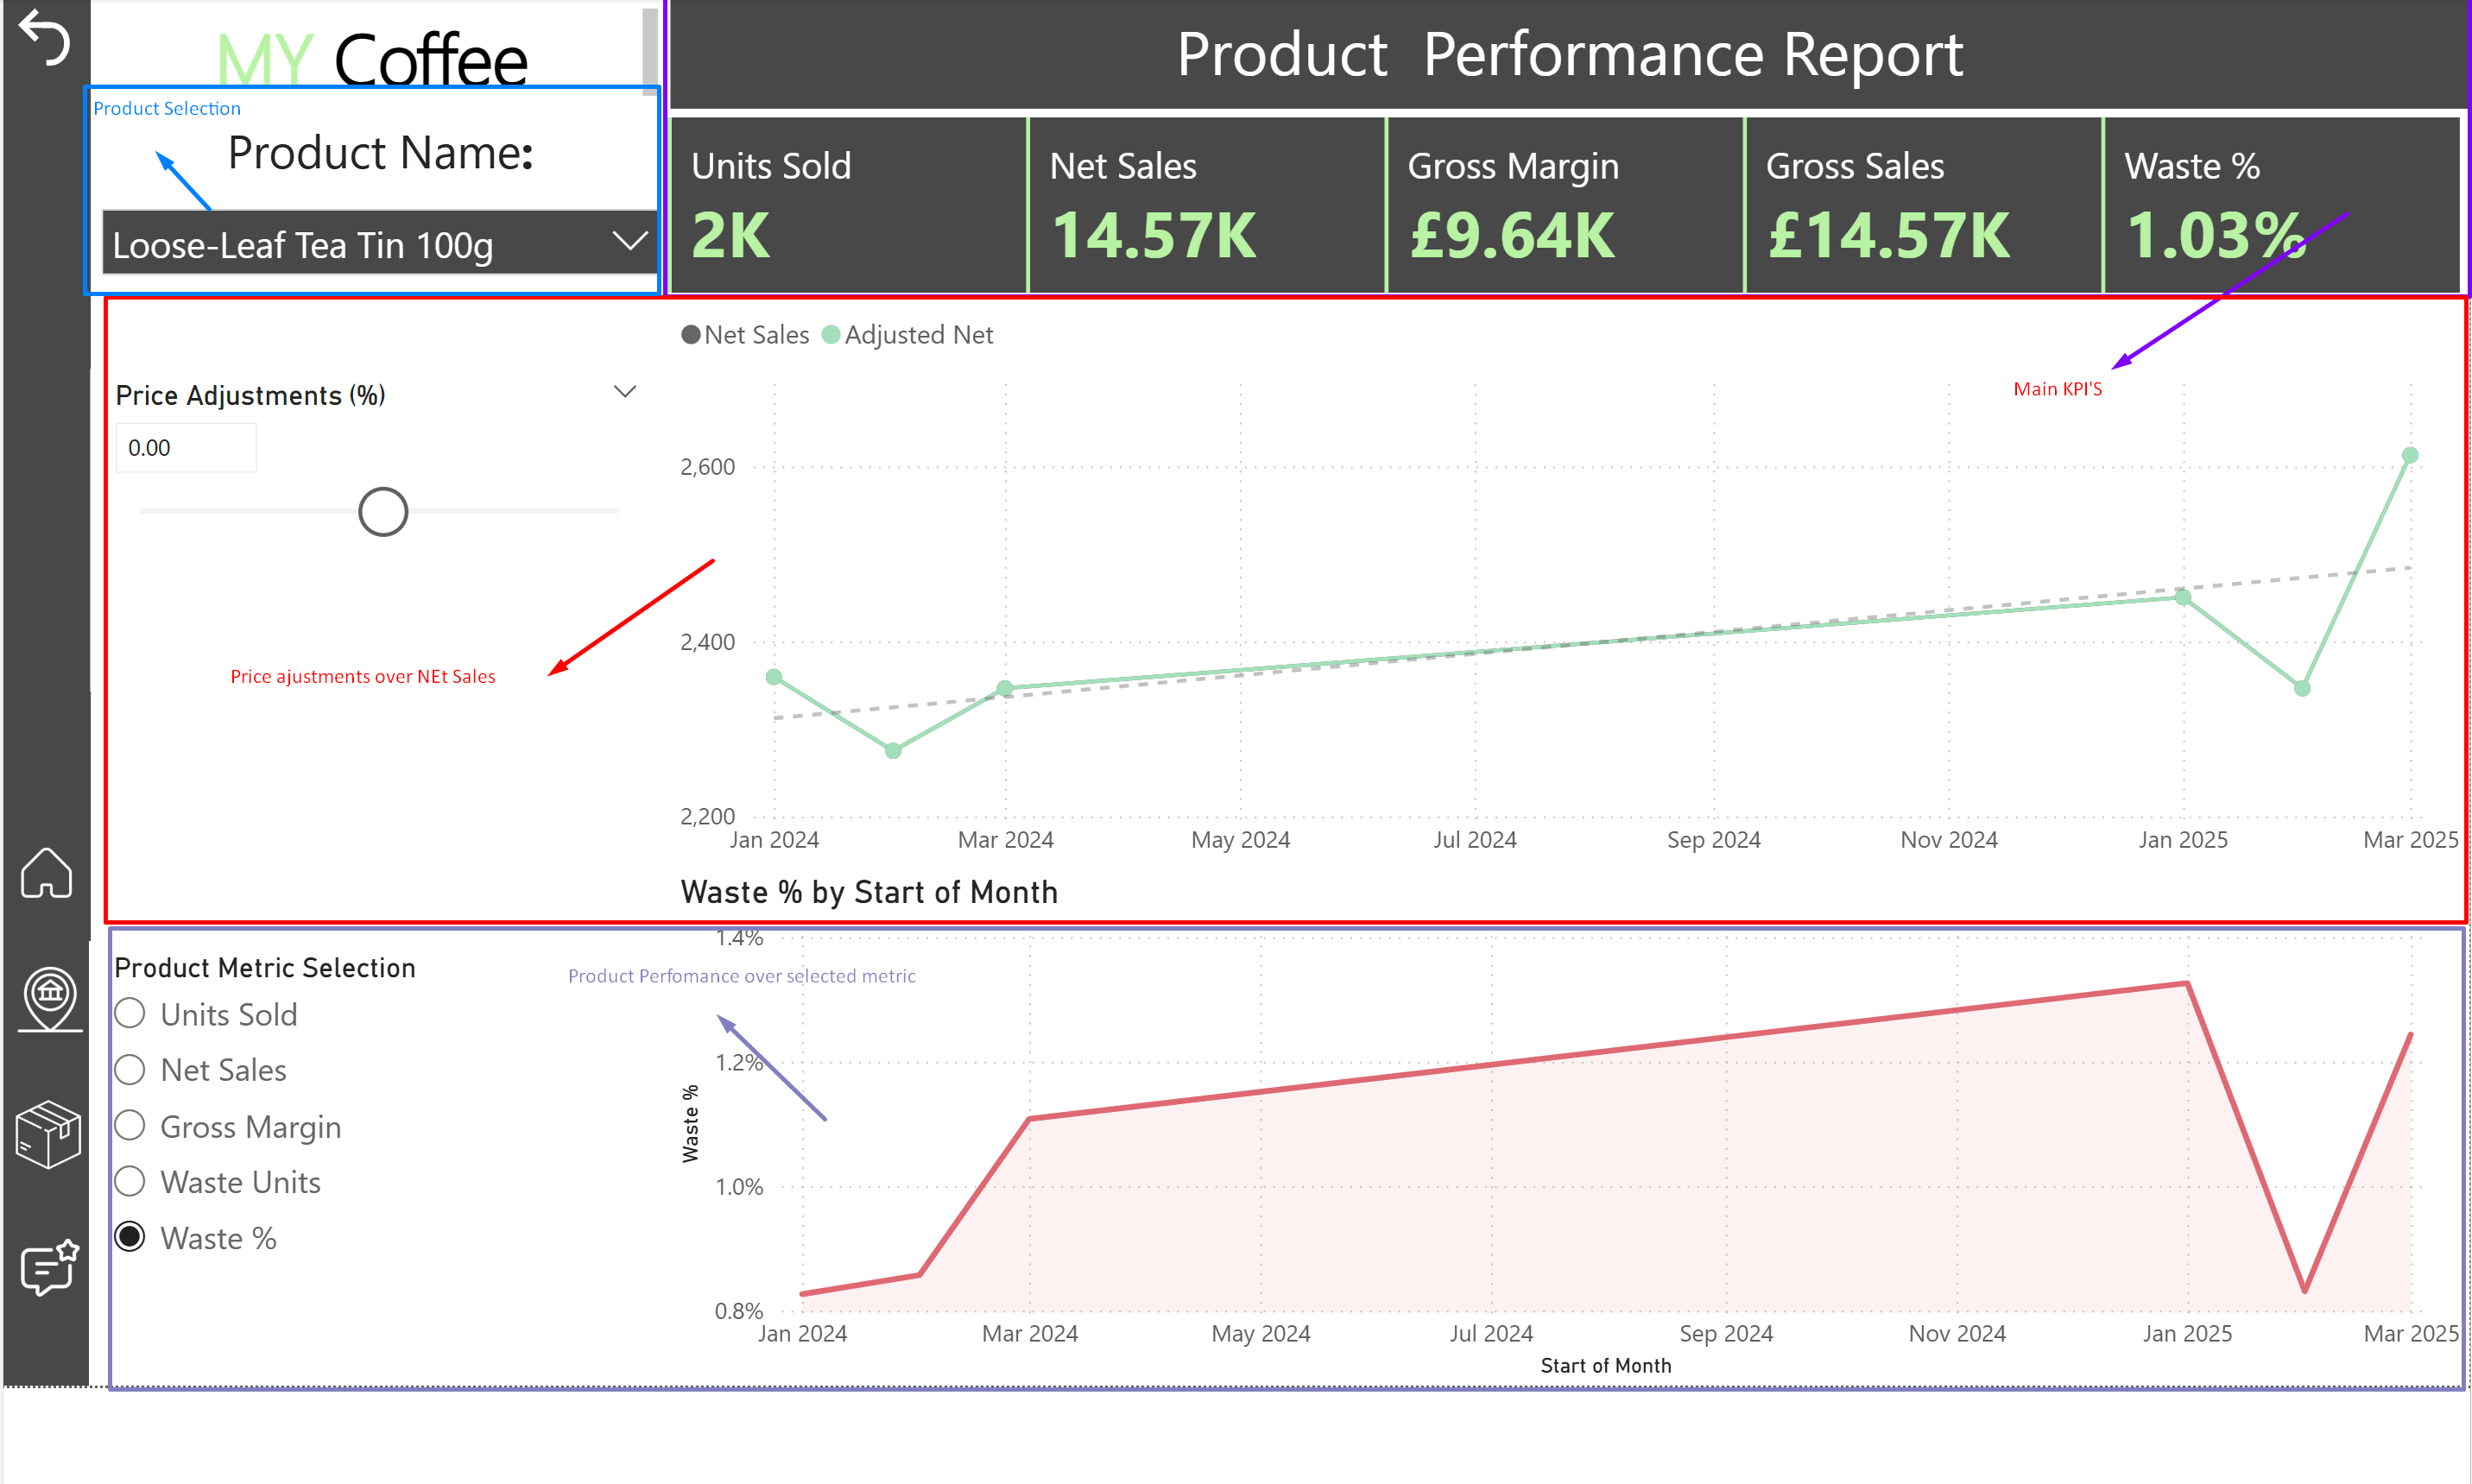

The dashboard page shown, as its layout file describes it:
{"tool":"powerbi","page":{"name":"Product Perfomance","canvas":[1280,720],"ordinal":2},"visuals":[{"type":"shape","box":[0,0,45.6,720.6],"z":0},{"type":"textbox","box":[346.3,0,933.7,57.3],"z":1000},{"type":"textbox","box":[45.8,0,299.2,57.5],"z":2000},{"type":"textbox","box":[45.4,57.3,299.7,41.8],"z":3000},{"type":"slicer","fields":{"Values":["Product_Lookup_Table.PLU Name"]},"box":[45.4,103.9,299.7,50.1],"z":4000},{"type":"cardVisual","fields":{"Data":["Measure Table.Units Sold","Measure Table.Net Sales","Measure Table.Gross Margin","Measure Table.Gross Sales","Measure Table.Waste %"]},"box":[345.1,62.1,934.9,91.9],"z":5000},{"type":"lineChart","fields":{"Y":["Measure Table.Waste %"],"Category":["Calendar_Lookup_table.Start of Month"]},"box":[346.2,453.8,933.8,266.2],"z":6000},{"type":"slicer","fields":{"Values":["Parameter.Parameter"]},"box":[44.6,489.2,298.5,230.8],"z":7000},{"type":"image","box":[2.1,497.4,44.2,44.2],"z":8000},{"type":"image","box":[2.1,637.3,44.2,43.1],"z":9000},{"type":"image","box":[0,432.2,44.2,43.1],"z":10000},{"type":"image","box":[0,563.7,46.3,51.5],"z":11000},{"type":"slicer","fields":{"Values":["Price Adjustments (%).Price Adjustments (%)"]},"box":[44.8,192.4,296.5,167.4],"z":12000},{"type":"lineChart","fields":{"Category":["Calendar_Lookup_table.Start of Month"],"Y":["Measure Table.Net Sales","Measure Table.Adjusted Net Sales"]},"box":[345.3,154.2,934.3,300.5],"z":13000},{"type":"actionButton","box":[1.1,0,45.2,40],"z":14000}]}

Visuals, with their boxes on the page's 1280x720 design canvas (x1, y1, x2, y2). These are canvas units, not pixel positions in the 2472x1484 screenshot, which may show the page scaled, cropped or inside an application window:
shape: [left=0, top=0, right=46, bottom=721]
textbox: [left=346, top=0, right=1280, bottom=57]
textbox: [left=46, top=0, right=345, bottom=58]
textbox: [left=45, top=57, right=345, bottom=99]
slicer - Product_Lookup_Table.PLU Name: [left=45, top=104, right=345, bottom=154]
cardVisual - Measure Table.Units Sold x Measure Table.Net Sales: [left=345, top=62, right=1280, bottom=154]
lineChart - Measure Table.Waste % x Calendar_Lookup_table.Start of Month: [left=346, top=454, right=1280, bottom=720]
slicer - Parameter.Parameter: [left=45, top=489, right=343, bottom=720]
image: [left=2, top=497, right=46, bottom=542]
image: [left=2, top=637, right=46, bottom=680]
image: [left=0, top=432, right=44, bottom=475]
image: [left=0, top=564, right=46, bottom=615]
slicer - Price Adjustments (%).Price Adjustments (%): [left=45, top=192, right=341, bottom=360]
lineChart - Calendar_Lookup_table.Start of Month x Measure Table.Net Sales: [left=345, top=154, right=1280, bottom=455]
actionButton: [left=1, top=0, right=46, bottom=40]
